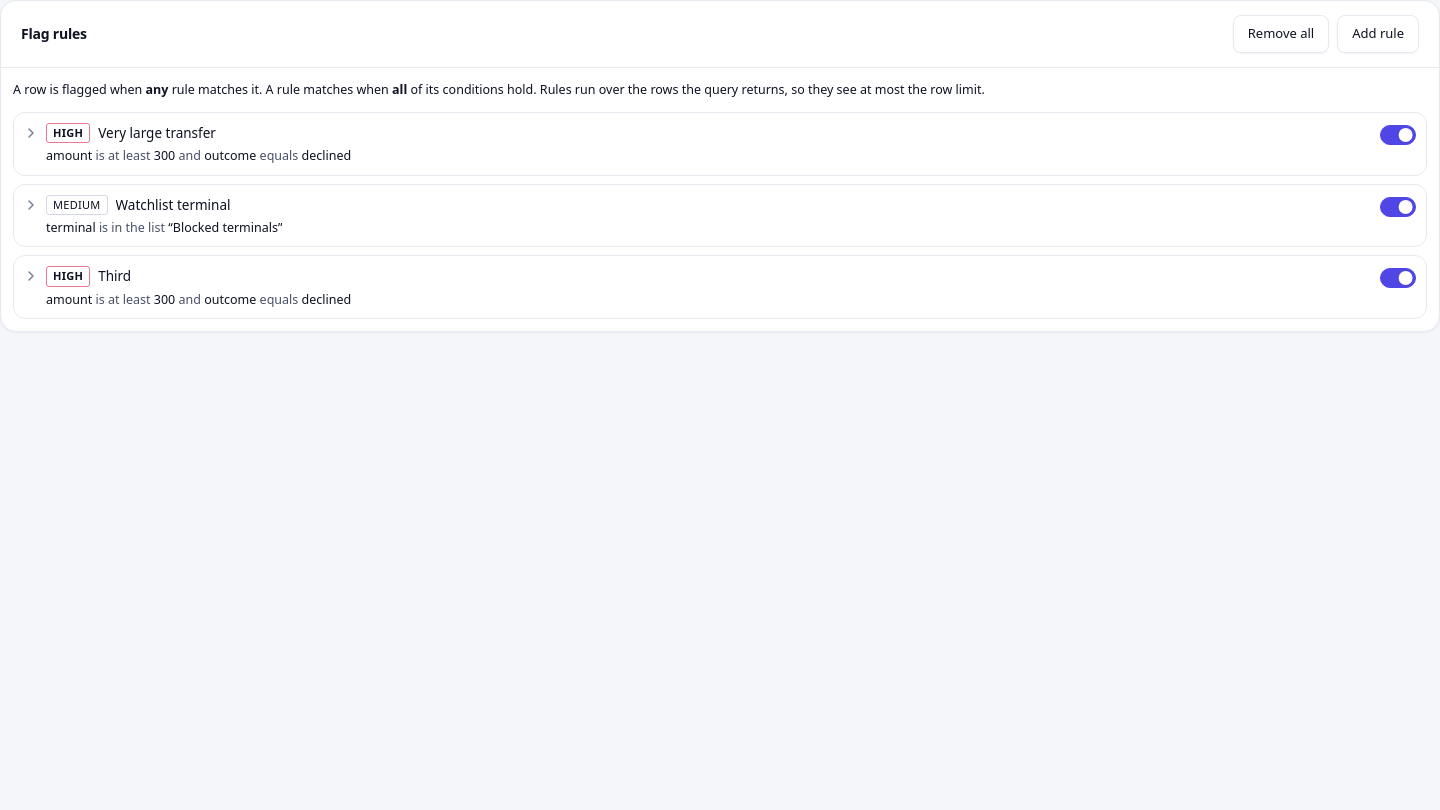
Test: adding and removing › does not open the wrong rule after one before it is removed
Click the button with aria-label "Edit rule Third" at (68, 276), box [24,266,1372,308]
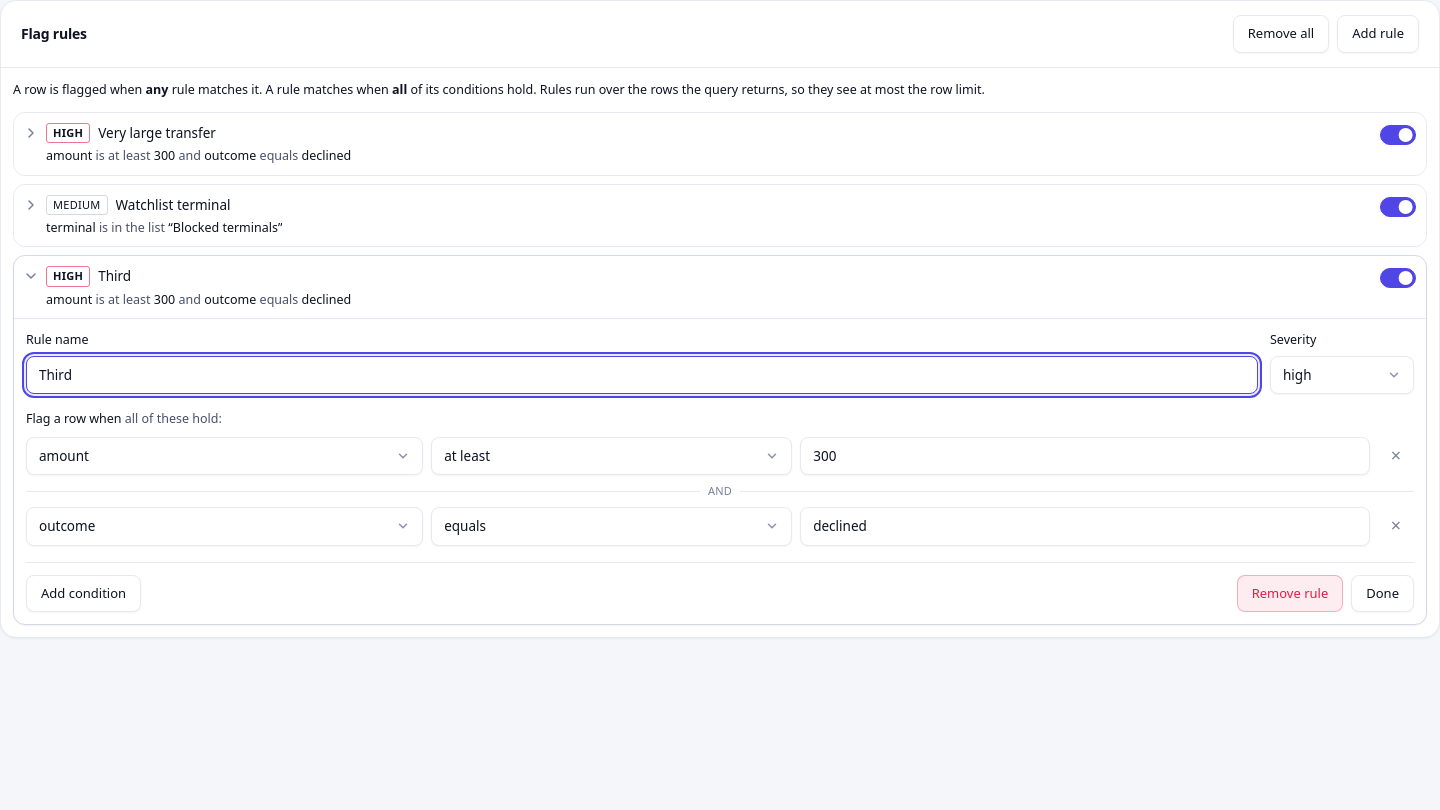
Click the button with aria-label "Edit rule Very large transfer" at (68, 133), box [24,123,1372,164]
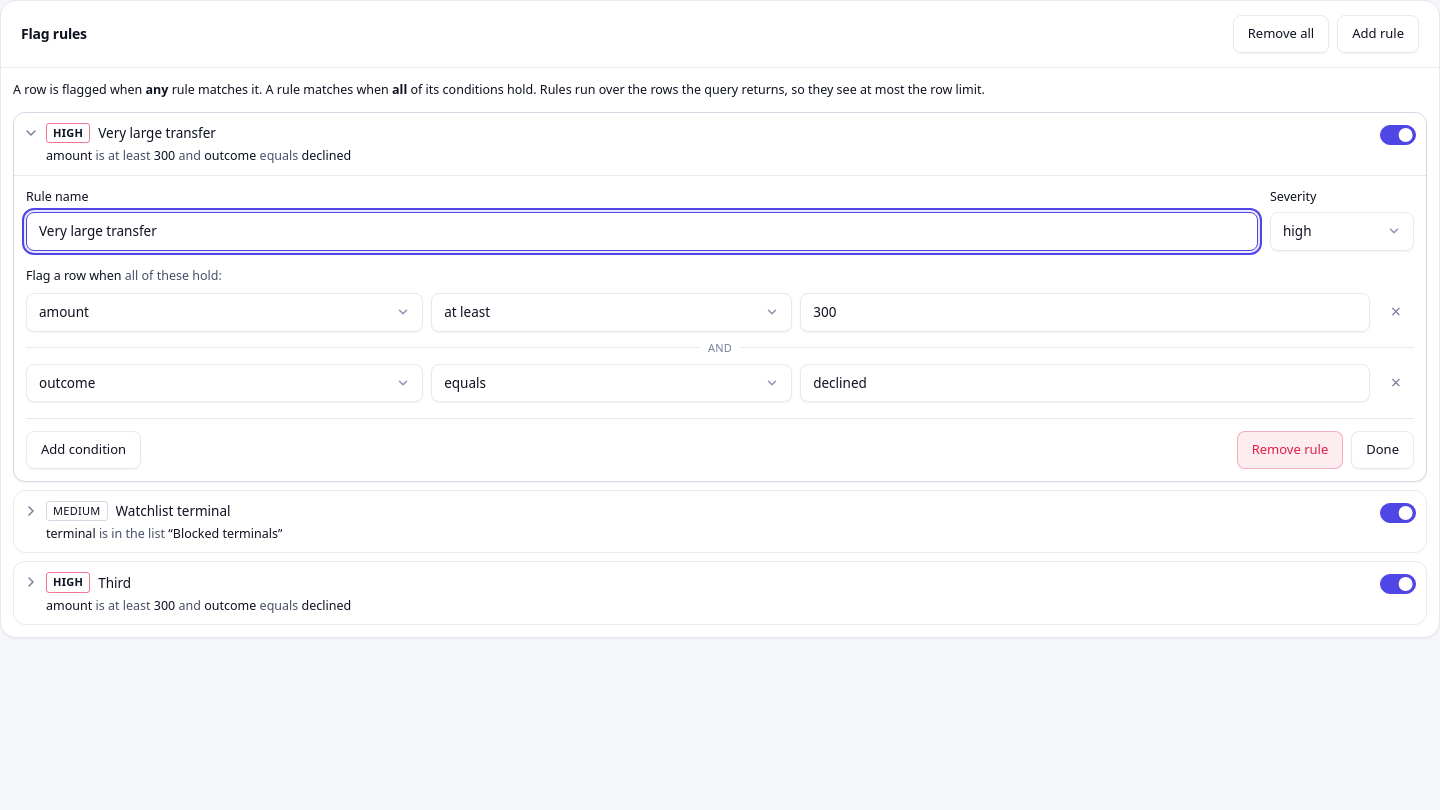
Click the button with aria-label "Remove rule Very large transfer" at (1290, 450), box [1237,431,1343,469]
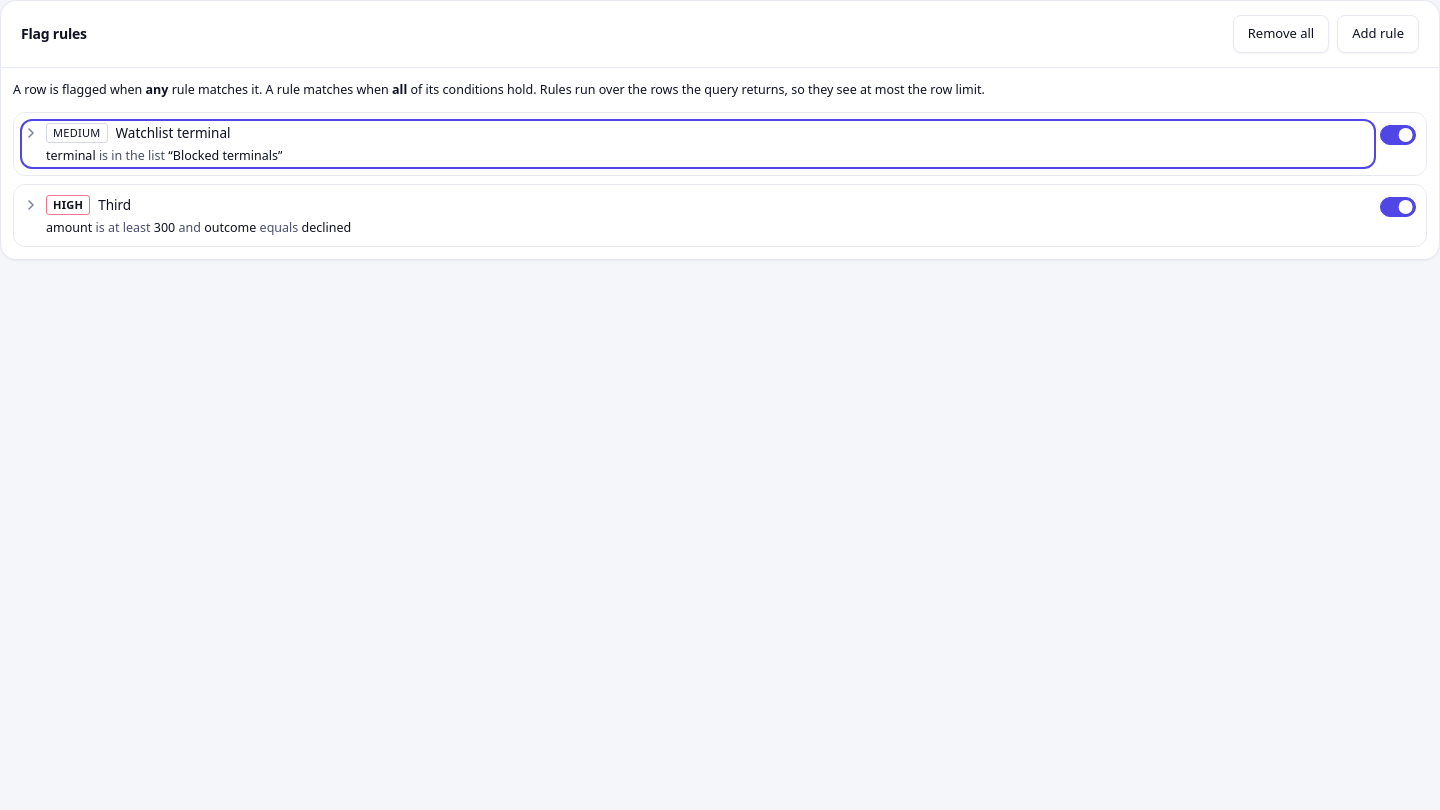
Expected: the label labelled "Rule name" is gone
